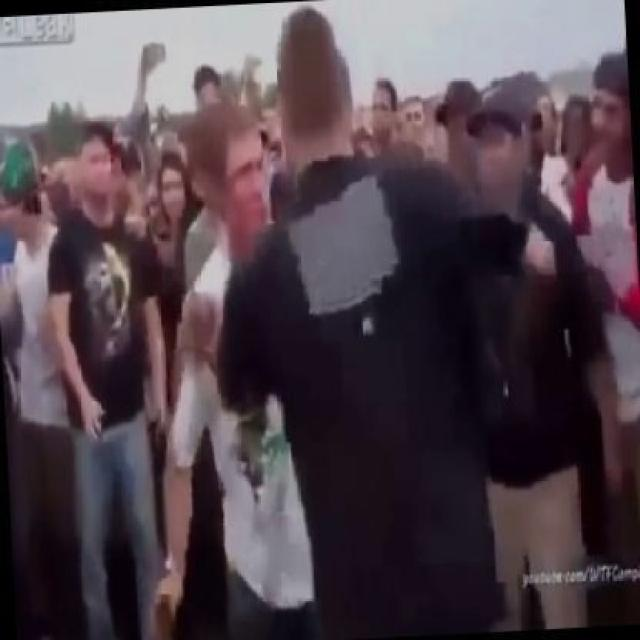fight: (148, 4, 505, 640)
non-fight: (445, 81, 626, 639), (52, 129, 164, 640), (0, 147, 85, 639)
